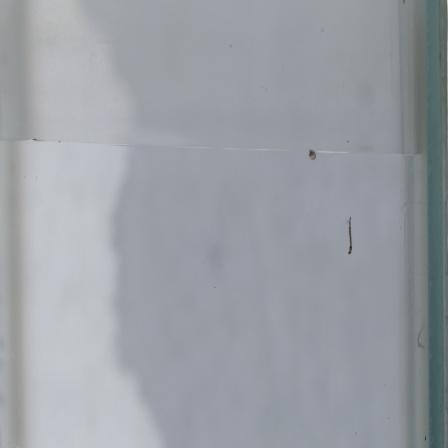Jentik-Nyamuk: (339, 213, 363, 257), (299, 144, 322, 166)
